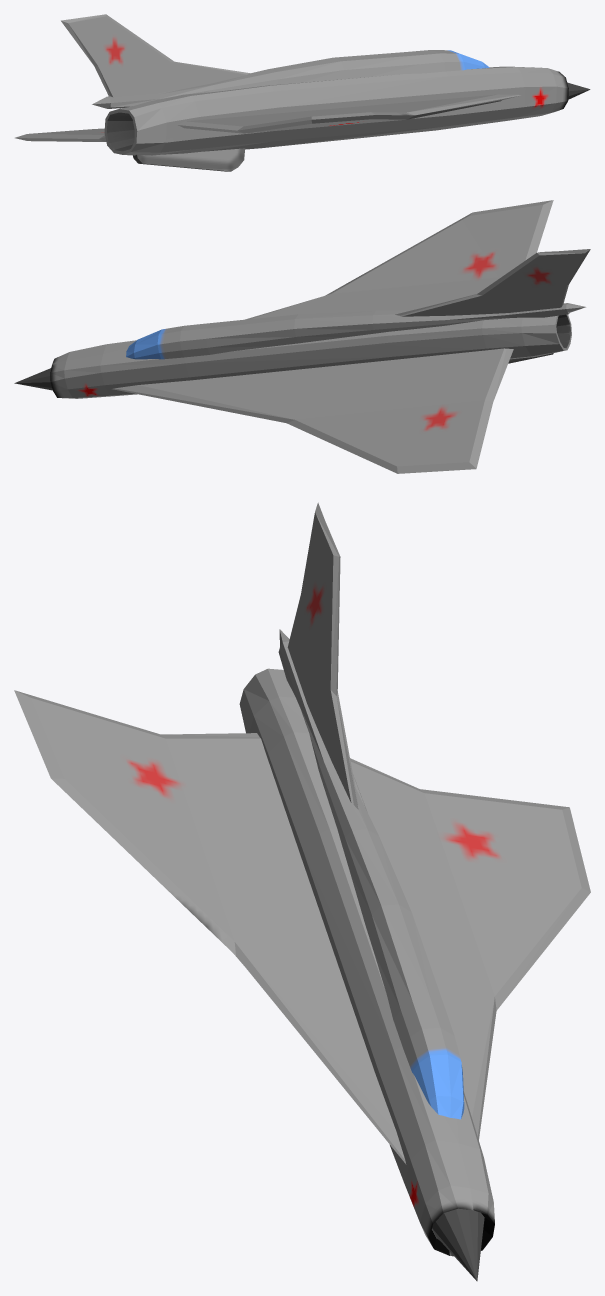
The model's file is ArenaMiscMig.fbx.
The picture shows the model from 3 angles, top to bottom: view 1: azimuth 30°, elevation 25°; view 2: azimuth 150°, elevation 25°; view 3: azimuth 270°, elevation 25°; orthographic projection. The views are drawn at different scales.
Visible parts, largest first — view 1: Plane.001; view 2: Plane.001; view 3: Plane.001.
Boxes of the visible parts, x1,y1,x2,y2 form: Plane.001: (15,14,590,171); Plane.001: (14,200,590,473); Plane.001: (14,502,590,1281).
Bounding box in the file's own units: 1579 × 666 × 929.
1 material, 1 textured.
